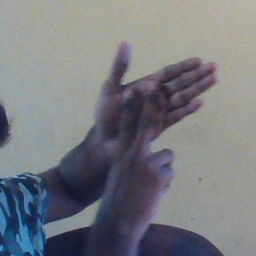N: (89, 36, 220, 202)
